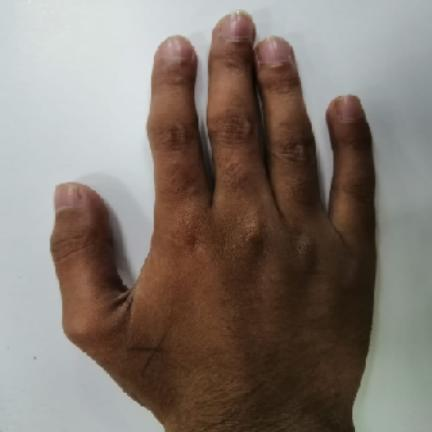Nail: (220, 11, 254, 39), (256, 36, 290, 64), (334, 95, 365, 122), (55, 182, 82, 212), (162, 35, 192, 60)
